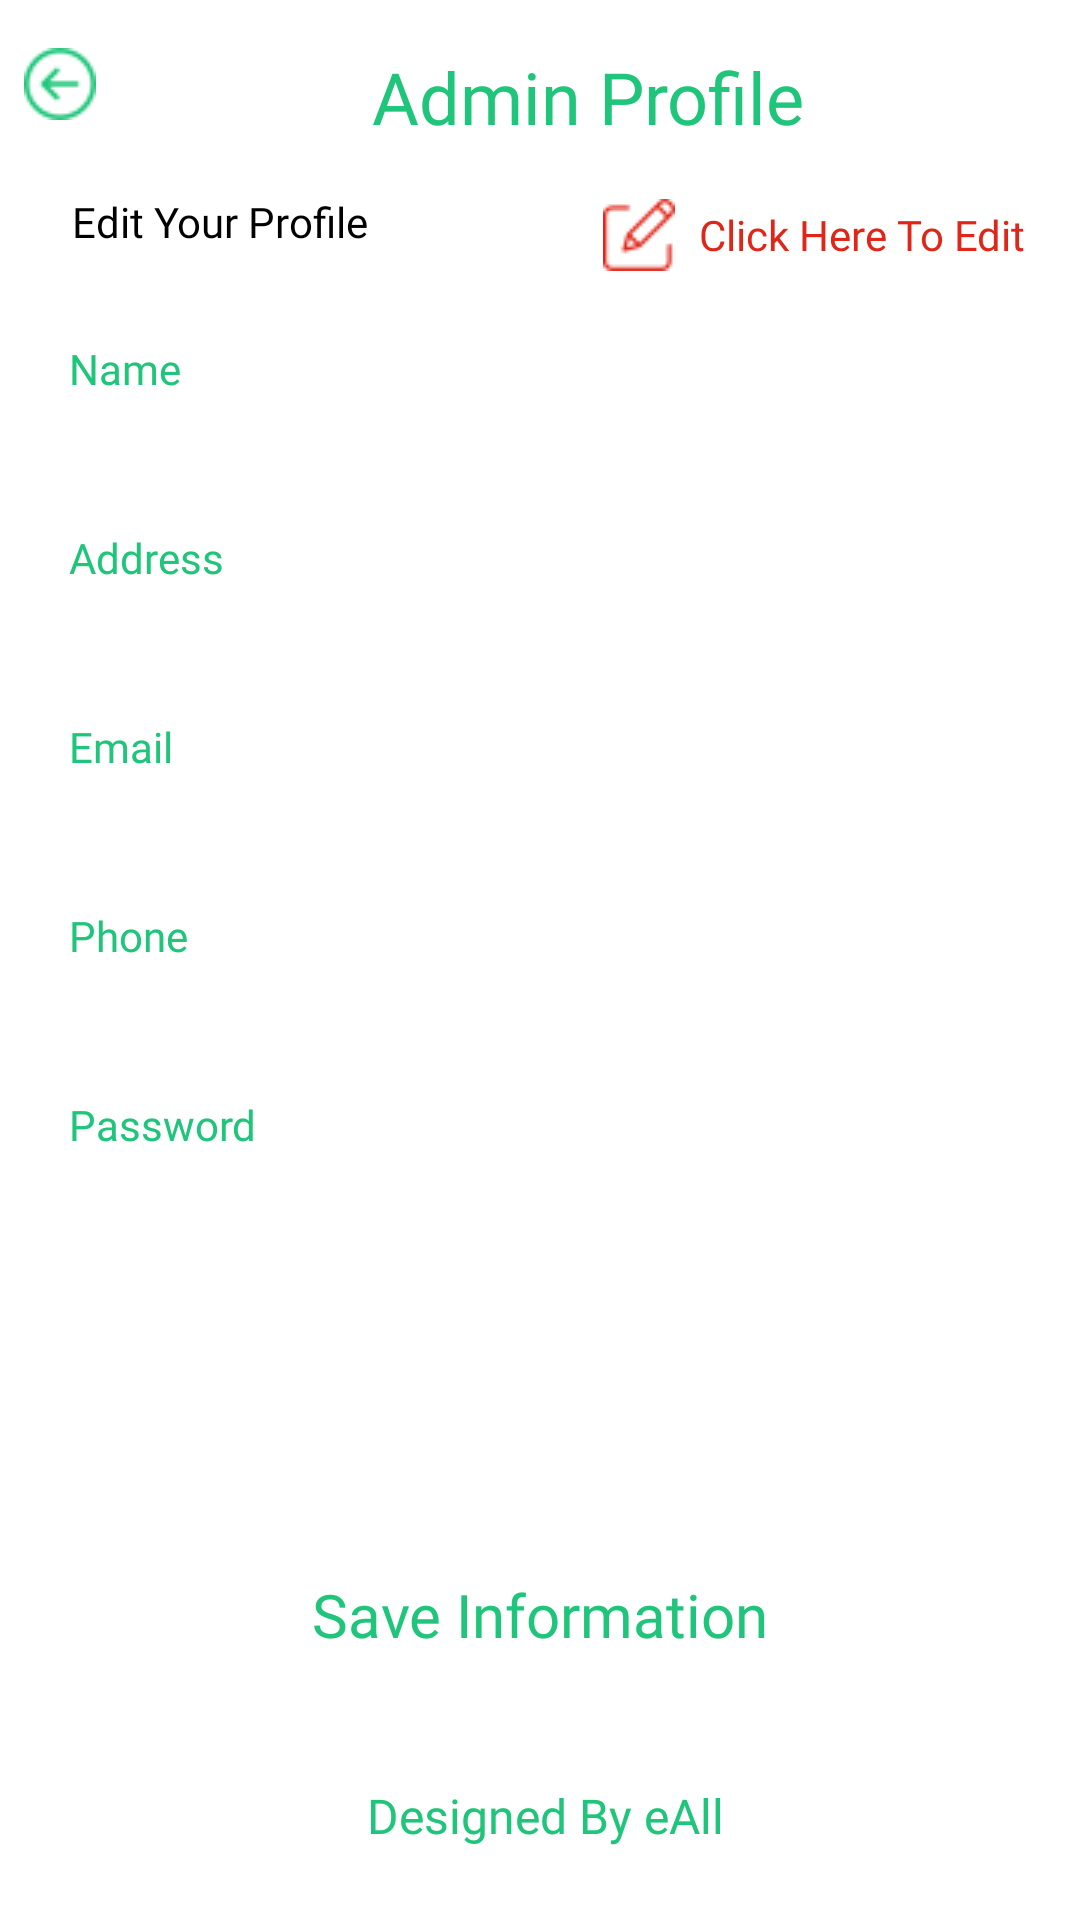

Point at icon controls on the screen. Image size 1080x1920, points as point (x, y).
backbtnicon: point (60, 84)
